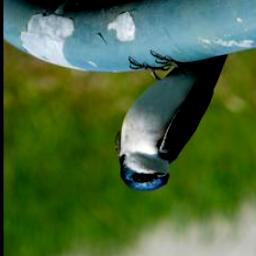Swallow: (112, 49, 229, 194)
